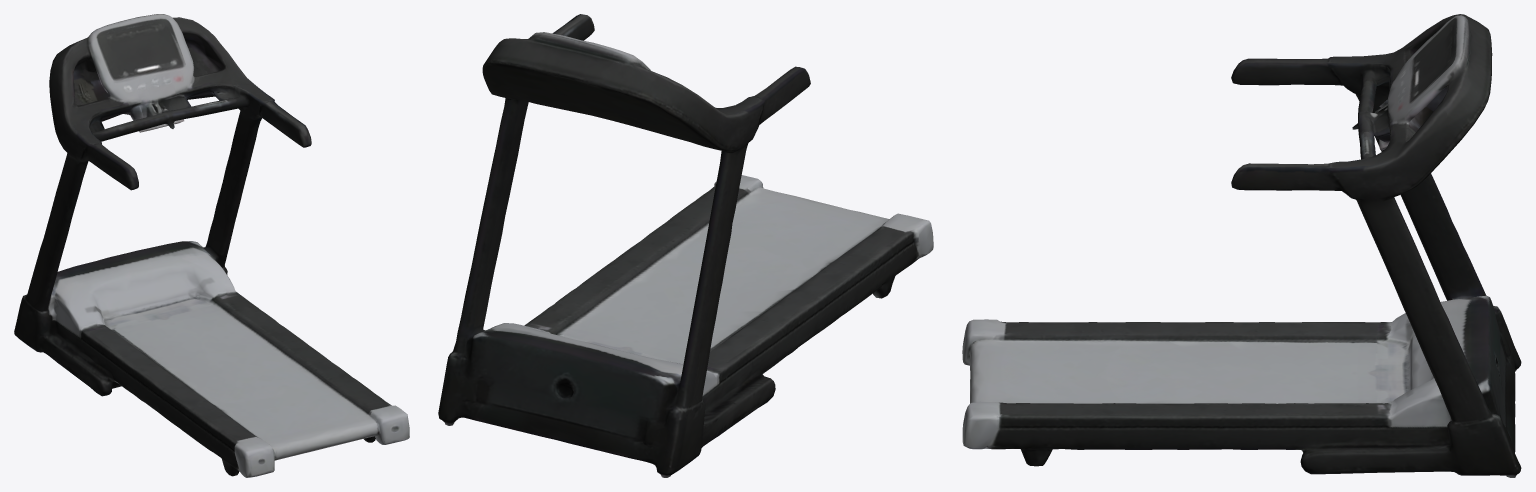
File: treadmill.glb
The picture shows the model from 3 angles, left to right: view 1: azimuth 30°, elevation 25°; view 2: azimuth 150°, elevation 25°; view 3: azimuth 270°, elevation 25°; orthographic projection. The views are drawn at different scales.
Parts seen in each view (by area): view 1: input; view 2: input; view 3: input.
Part boxes in pixels (box(x1,y1,x2,y2)): input: box(14, 14, 409, 477); input: box(438, 14, 933, 477); input: box(962, 14, 1521, 477).
Size of the model in its own units: 0.783 by 1.24 by 1.6.
1 material, 1 textured.
